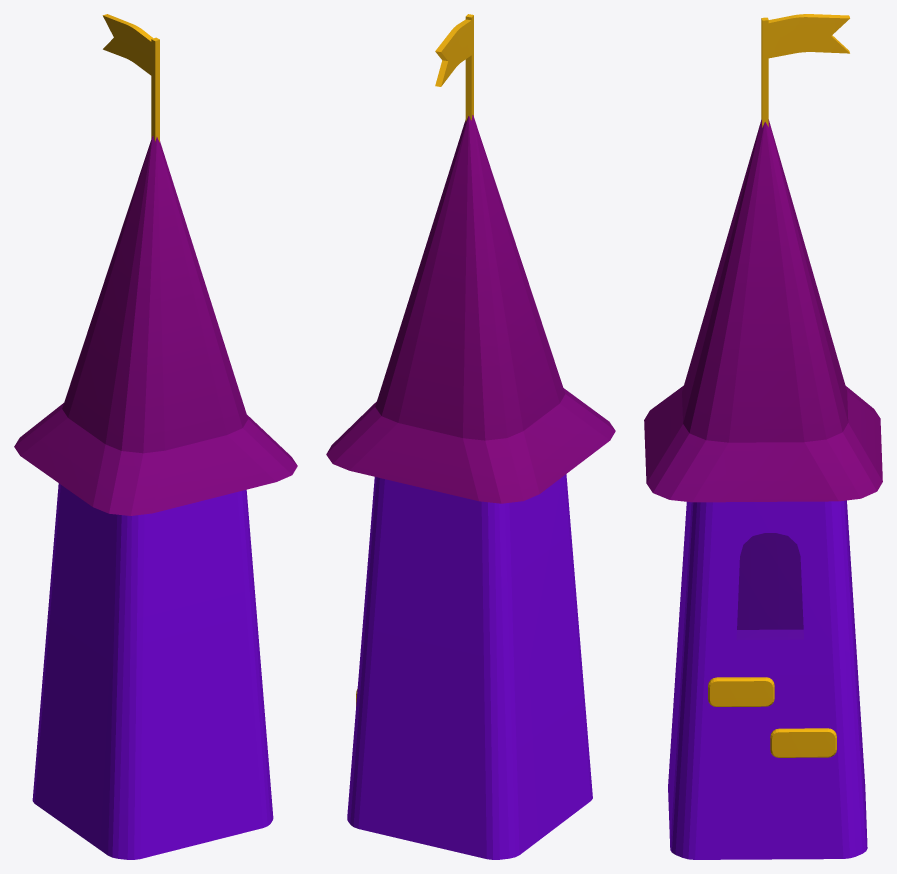
The model's file is Tower_1.fbx.
3 views of the same model, side by side, from view 1: azimuth 30°, elevation 25°; view 2: azimuth 150°, elevation 25°; view 3: azimuth 270°, elevation 25° (orthographic). The views are drawn at different scales.
Visible parts, largest first — view 1: Cube.135, Cube.136, Cube.137; view 2: Cube.135, Cube.136, Cube.137; view 3: Cube.135, Cube.136, Cube.137.
Boxes of the visible parts, <box> form: Cube.135: <box>32,483,273,859</box>; Cube.136: <box>14,136,297,515</box>; Cube.137: <box>102,14,159,142</box>; Cube.135: <box>347,474,592,859</box>; Cube.136: <box>326,115,615,503</box>; Cube.137: <box>435,14,473,121</box>; Cube.135: <box>668,500,867,859</box>; Cube.136: <box>644,119,882,502</box>; Cube.137: <box>761,14,849,127</box>.
Size of the model in its own units: 346 by 1258 by 340.
